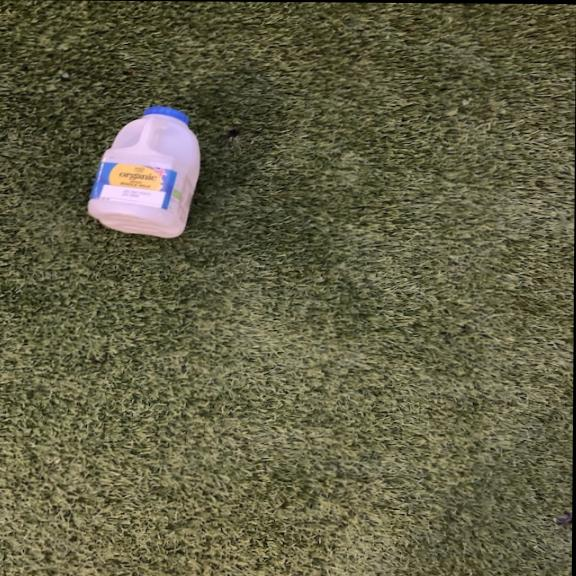Plastik: (88, 106, 209, 245)
